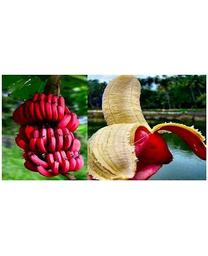banana: (88, 75, 206, 178), (16, 90, 85, 174)
